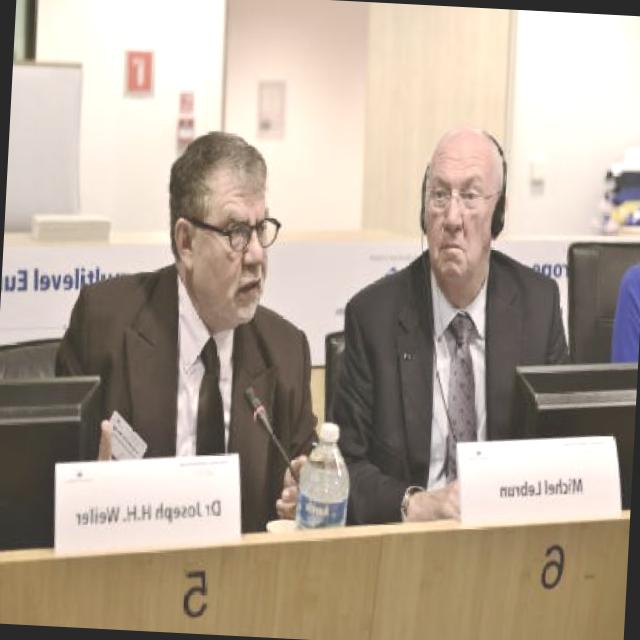Person: (61, 118, 330, 543), (332, 111, 582, 534)
